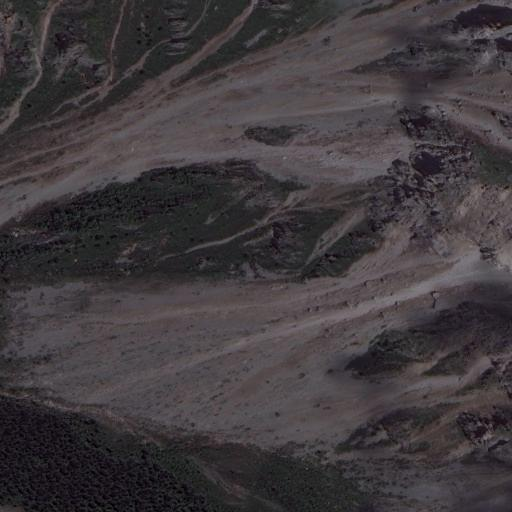landslide: (5, 232, 512, 455), (1, 6, 508, 216)
